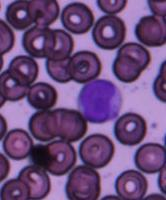M: (78, 77, 123, 123)
